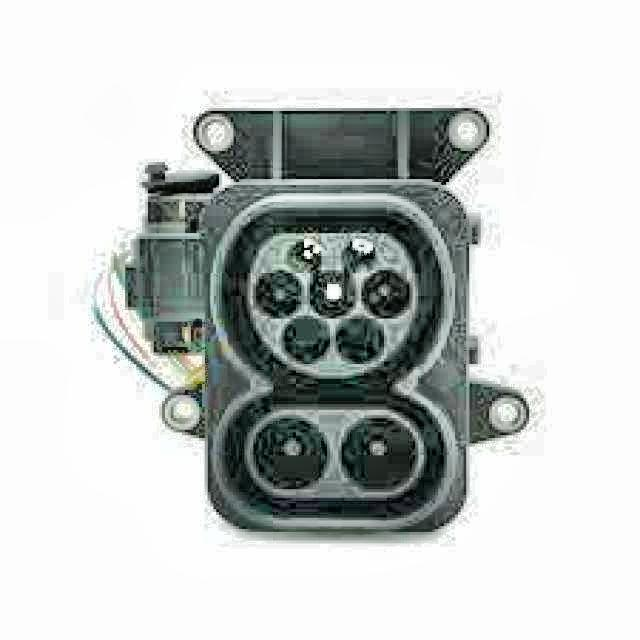inlet: (248, 232, 418, 377)
inlet-above-left: (286, 239, 322, 270)
inlet-above-right: (341, 239, 377, 271)
inlet-below-left: (283, 316, 329, 364)
inlet-below-right: (336, 314, 383, 364)
inlet-center: (309, 270, 355, 316)
inlet-center-left: (256, 271, 301, 316)
inlet-center-right: (362, 269, 410, 317)
